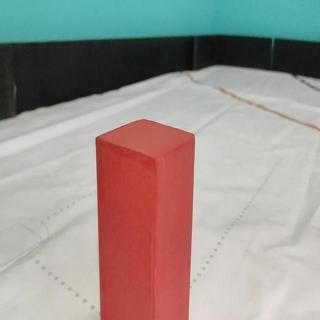redbox: (95, 117, 197, 320)
